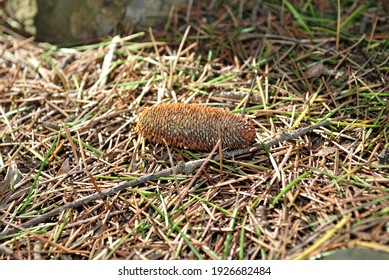Pc: (134, 105, 256, 153)
